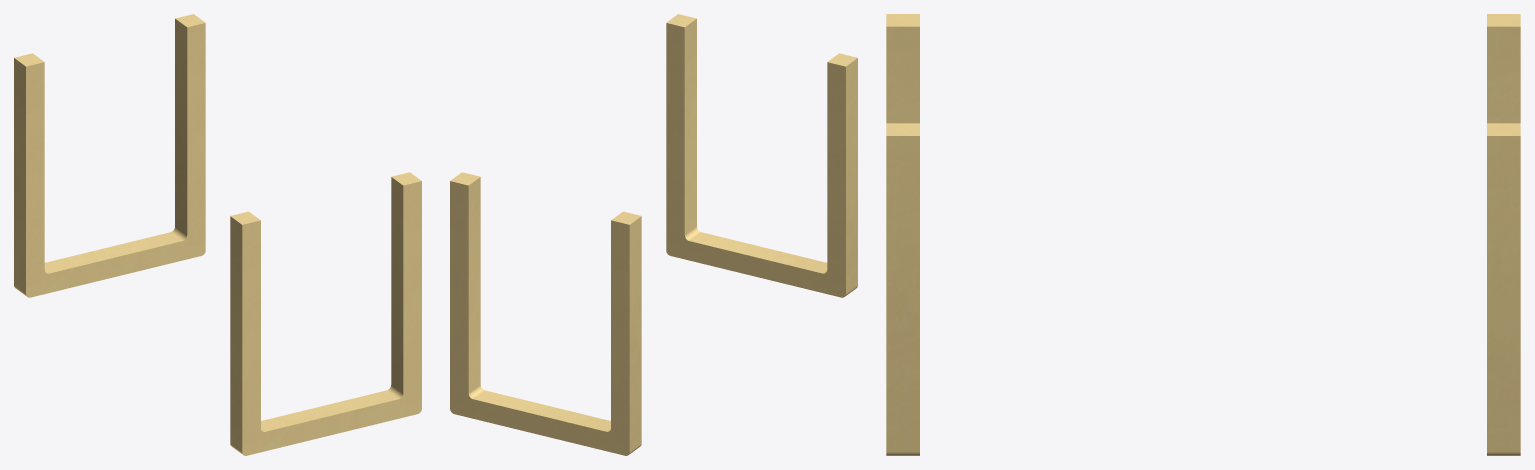
Rendered from u_shaped_gold_metal.glb.
3 views of the same model, side by side, from view 1: azimuth 30°, elevation 25°; view 2: azimuth 150°, elevation 25°; view 3: azimuth 270°, elevation 25° (orthographic). The views are drawn at different scales.
Parts seen in each view (by area): view 1: Channel001, Channel002; view 2: Channel002, Channel001; view 3: Channel001, Channel002.
Boxes of the visible parts, left/top/right/bottom form: Channel001: left=230, top=172, right=421, bottom=455; Channel002: left=14, top=14, right=205, bottom=297; Channel002: left=450, top=172, right=641, bottom=455; Channel001: left=666, top=14, right=857, bottom=297; Channel001: left=886, top=14, right=919, bottom=455; Channel002: left=1487, top=14, right=1520, bottom=455.
Bounding box in the file's own units: 0.6 × 0.7404 × 1.32.
Materials: 1 (1 with a texture image).
